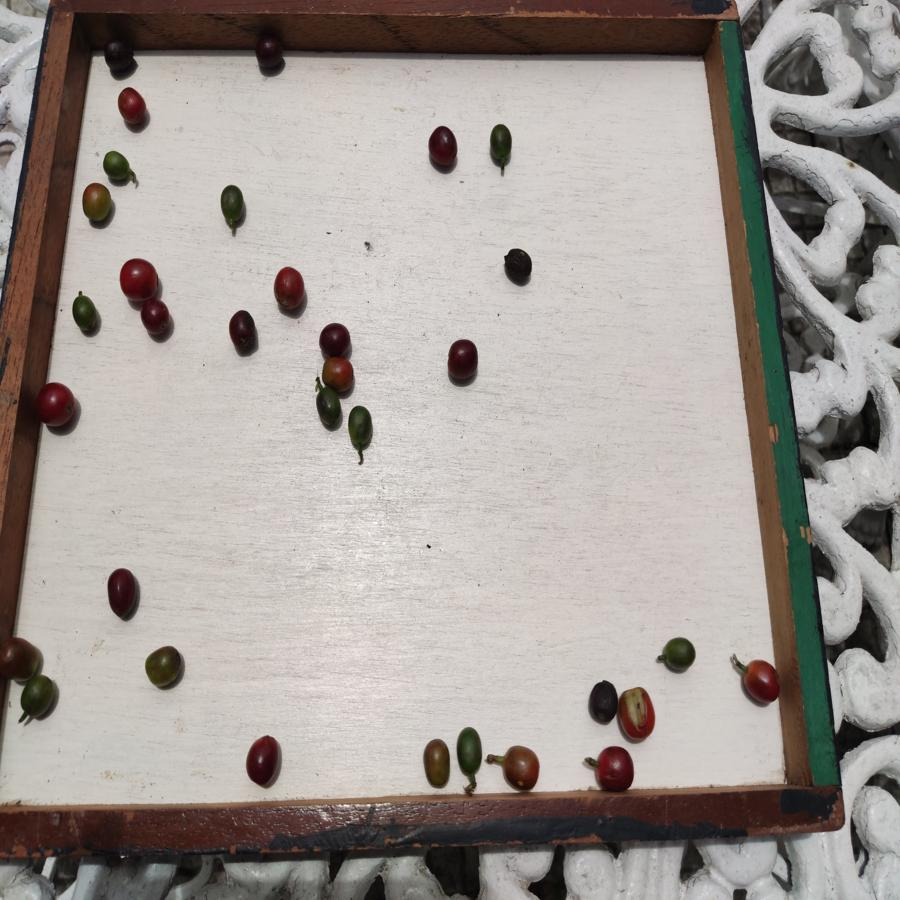Inmaduro: (19, 677, 56, 721), (456, 726, 482, 774), (348, 405, 374, 450), (664, 636, 696, 672), (70, 294, 98, 334), (219, 185, 246, 225), (101, 151, 134, 182), (489, 124, 515, 163), (316, 388, 342, 427)
Maduro: (737, 660, 783, 708), (593, 744, 636, 793), (619, 687, 657, 741), (37, 381, 78, 430), (119, 257, 160, 301), (270, 266, 305, 313), (115, 85, 148, 129)
Pinton: (499, 744, 540, 794), (142, 645, 183, 691), (422, 739, 450, 788), (319, 357, 357, 390), (83, 183, 115, 222)
Sobremaduro: (242, 736, 281, 786), (105, 566, 137, 621), (1, 637, 41, 679), (446, 339, 477, 385), (428, 125, 457, 171), (588, 679, 618, 723), (140, 300, 173, 338), (227, 310, 257, 351), (102, 39, 136, 75), (502, 248, 534, 285), (253, 37, 285, 72), (320, 323, 351, 355)
